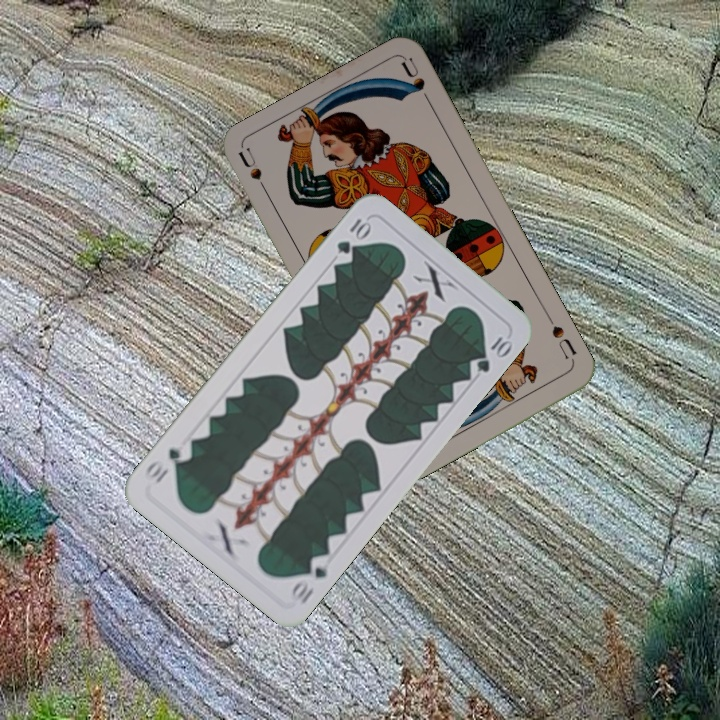G10: (286, 550, 331, 607), (332, 213, 373, 257)
SU: (235, 145, 274, 202), (543, 311, 579, 366)
